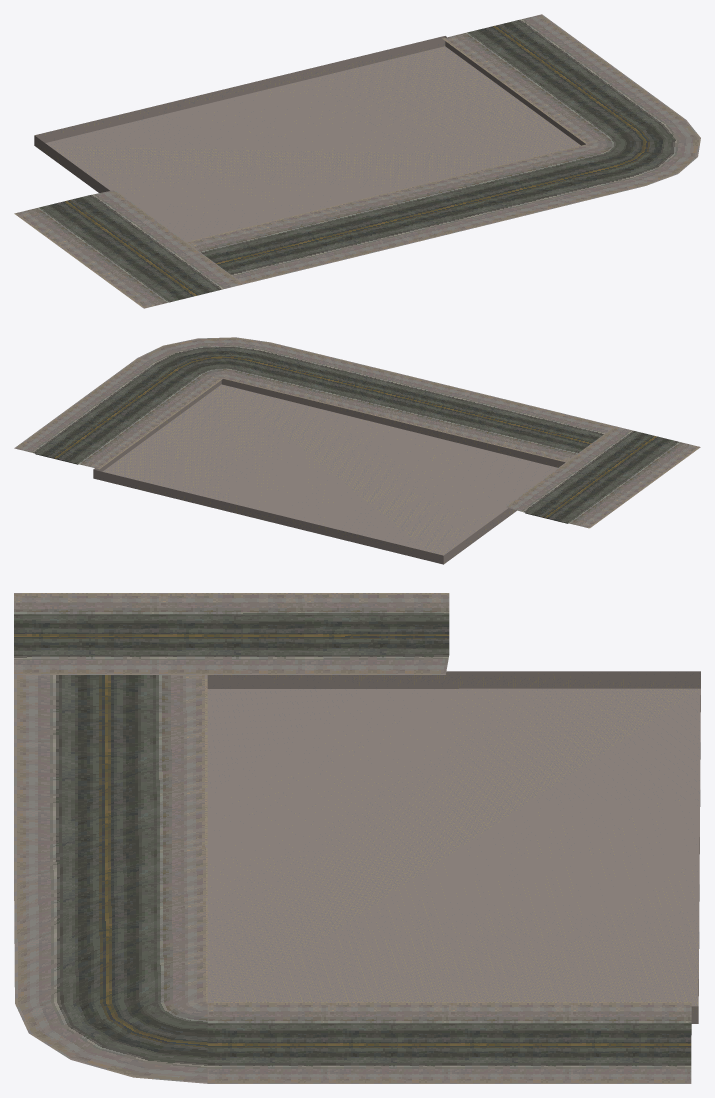
File: lodcuntetownrd4a.obj
3 views of the same model, one above another, from view 1: azimuth 30°, elevation 25°; view 2: azimuth 150°, elevation 25°; view 3: azimuth 270°, elevation 25° (orthographic). The views are drawn at different scales.
Parts seen in each view (by area): view 1: LODcuntetownrd4a; view 2: LODcuntetownrd4a; view 3: LODcuntetownrd4a.
Part boxes in pixels (left/top/right/bottom): LODcuntetownrd4a: left=14, top=14, right=700, bottom=308; LODcuntetownrd4a: left=14, top=337, right=700, bottom=564; LODcuntetownrd4a: left=14, top=593, right=700, bottom=1083.
Size of the model in its own units: 120 by 2 by 71.
Materials: 1 (1 with a texture image).
